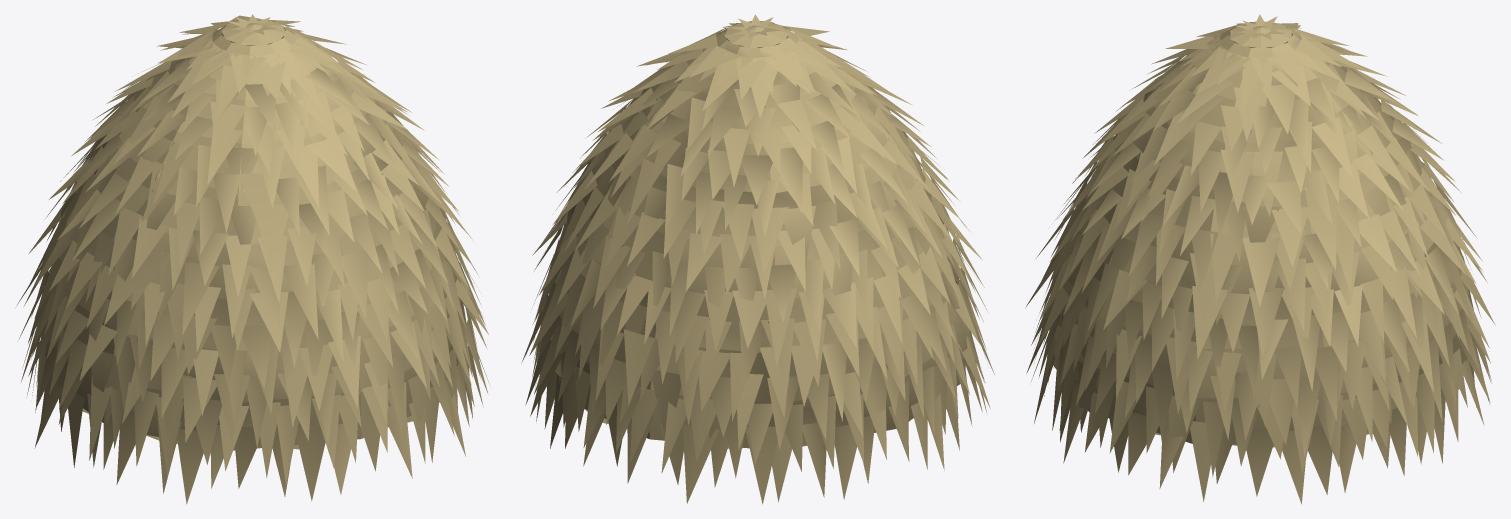
Rendered from haystack.glb.
3 renders of one model, left to right at view 1: azimuth 30°, elevation 25°; view 2: azimuth 150°, elevation 25°; view 3: azimuth 270°, elevation 25°, orthographic.
Visible parts, largest first — view 1: haystack.001; view 2: haystack.001; view 3: haystack.001.
Part boxes in pixels (x1,y1,x2,y2): haystack.001: (16, 14, 489, 504); haystack.001: (521, 14, 994, 504); haystack.001: (1025, 14, 1495, 504).
Bounding box in the file's own units: 2.02 × 1.85 × 2.04.
